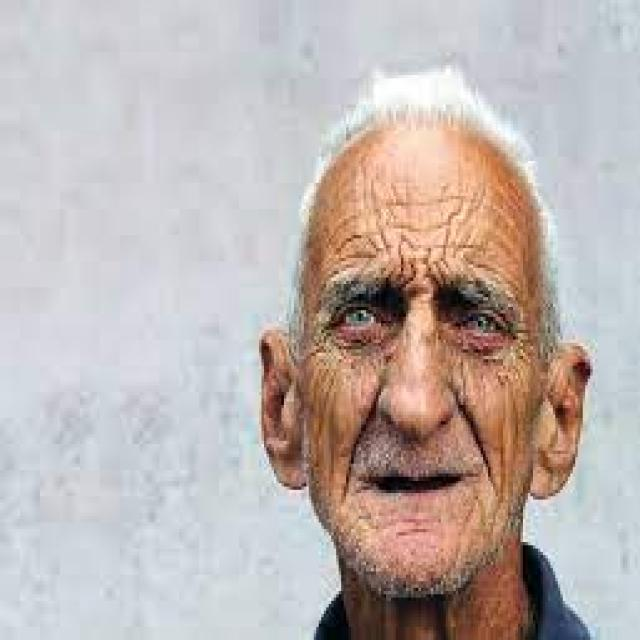Wrinkles: (312, 187, 529, 300), (299, 321, 347, 487), (496, 312, 535, 497)
